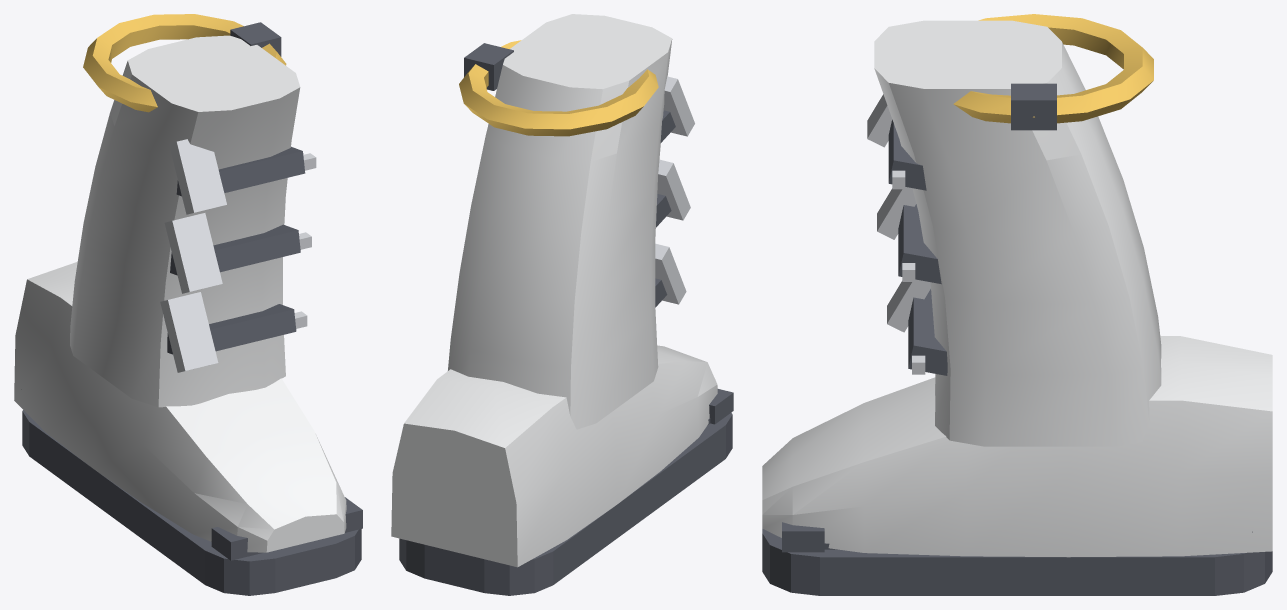
File: snowboard-gear-and-freestyle-riders-hard-boot-d0bd707d__27150.glb
The picture shows the model from 3 angles, left to right: view 1: azimuth 30°, elevation 25°; view 2: azimuth 150°, elevation 25°; view 3: azimuth 270°, elevation 25°; orthographic projection. The views are drawn at different scales.
Visible parts, largest first — view 1: hard-boot; view 2: hard-boot; view 3: hard-boot.
Boxes of the visible parts, <box> form: hard-boot: <box>14,14,362,595</box>; hard-boot: <box>391,14,733,595</box>; hard-boot: <box>762,14,1272,595</box>.
Bounding box in the file's own units: 0.1365 × 0.3362 × 0.31.
